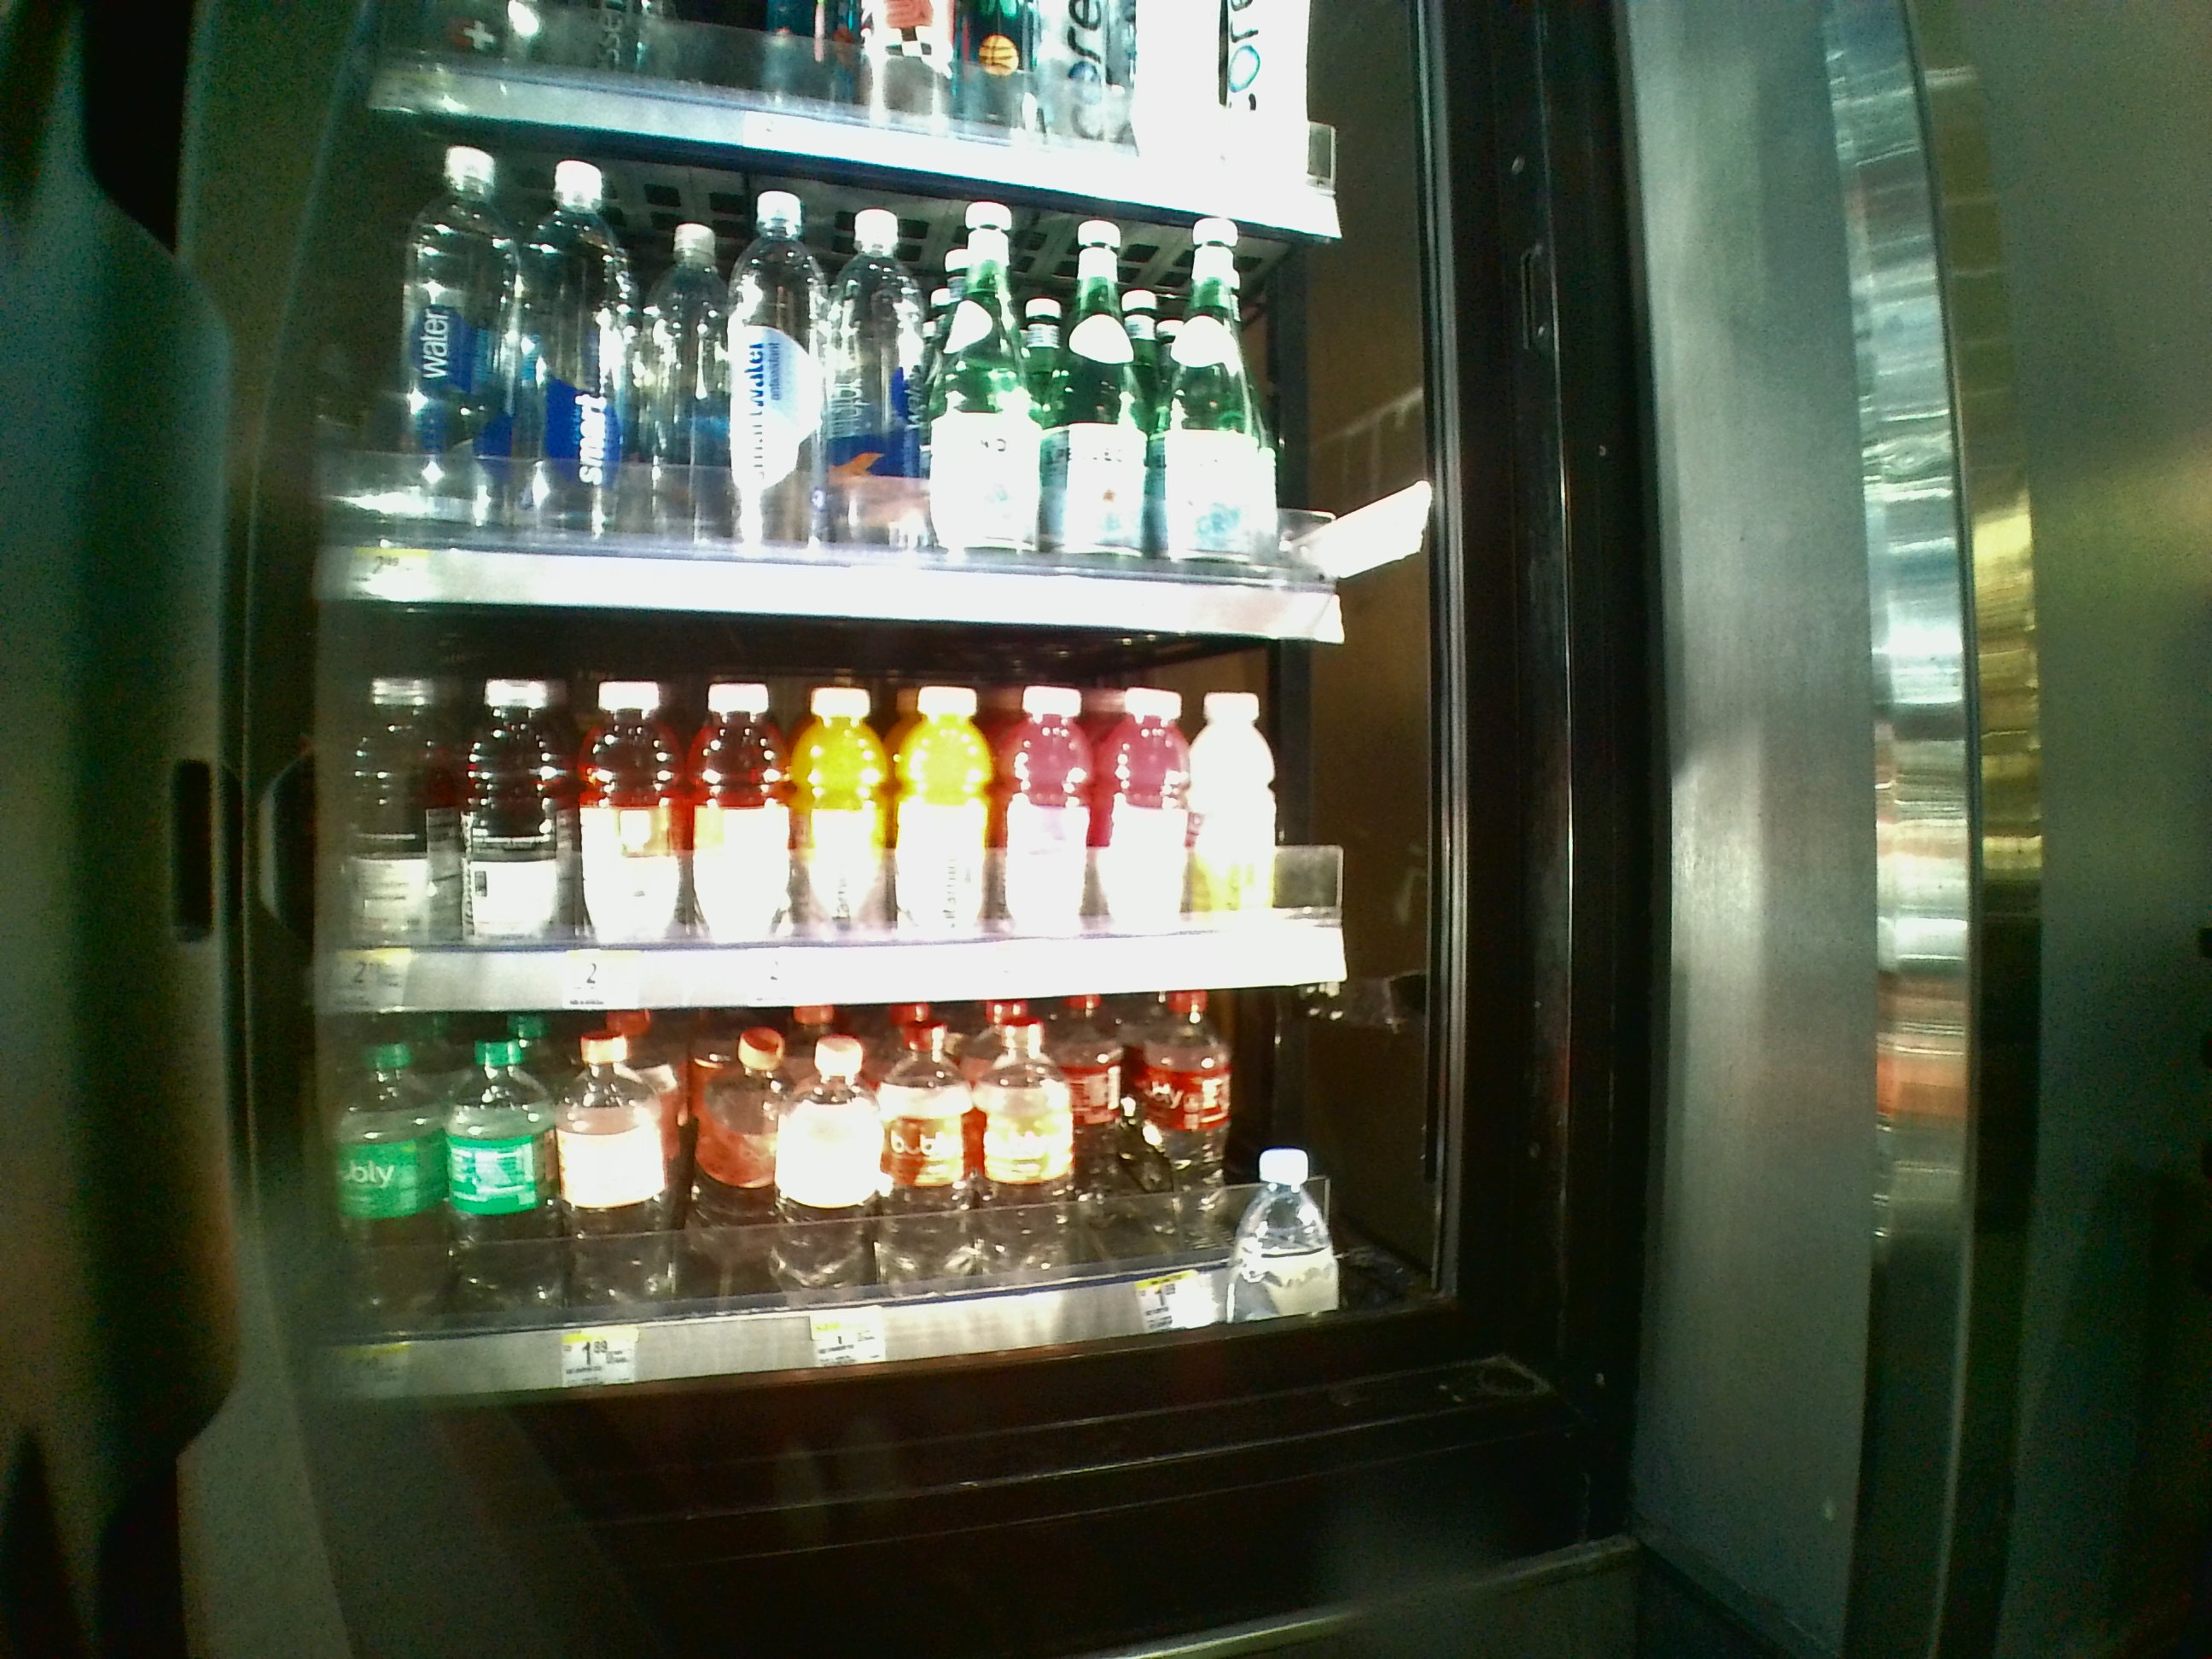shelf: (303, 606, 1385, 1009), (301, 1004, 1393, 1401)
